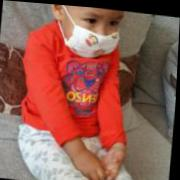WRONG: (66, 5, 122, 62)
